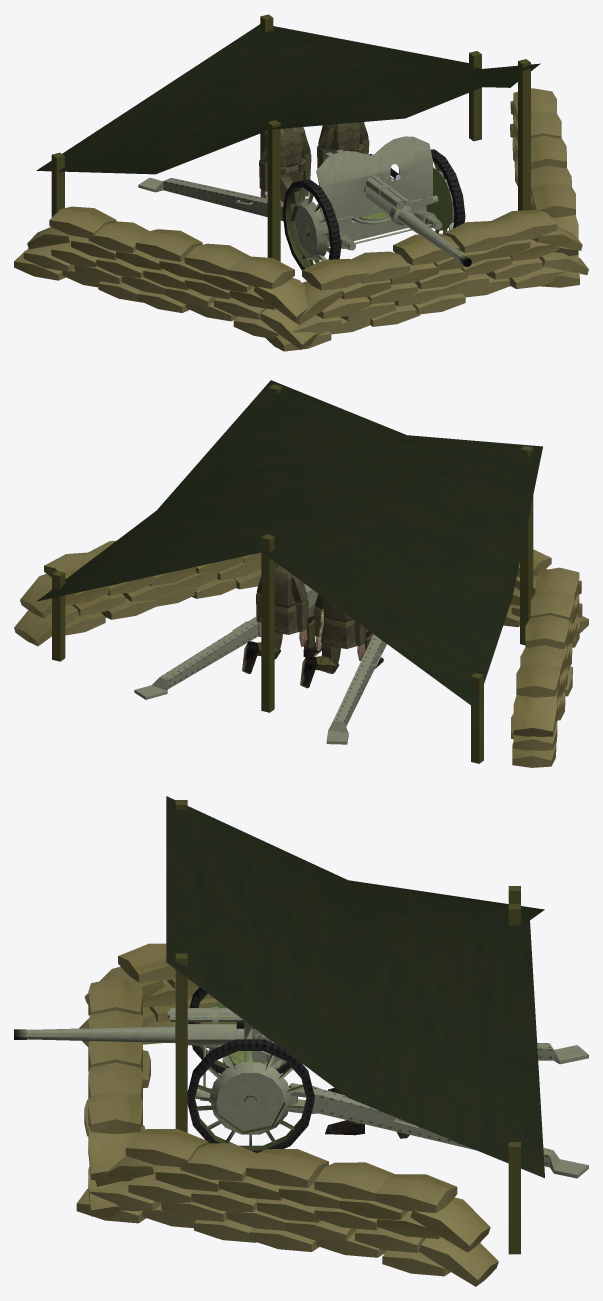
Rendered from FRA47mmAT_stationary.dae.
3 views of the same model, one above another, from view 1: azimuth 30°, elevation 25°; view 2: azimuth 150°, elevation 25°; view 3: azimuth 270°, elevation 25° (orthographic). The views are drawn at different scales.
Visible parts, largest first — view 1: base, turret, wheels, trail1, carriage, sleeve, torso2, barrel, torso1; view 2: base, trail2, trail1, torso1, torso2; view 3: base, wheels, trail2, barrel, sleeve, trail1, turret.
Part boxes in pixels (x1,y1,x2,y2): base: (14,14,588,351); turret: (316,136,432,222); wheels: (282,149,465,269); trail1: (138,177,295,221); carriage: (324,195,442,250); sleeve: (325,148,412,225); torso2: (280,127,305,189); barrel: (325,149,471,266); torso1: (330,122,363,153); base: (14,380,588,767); trail2: (134,584,311,699); trail1: (326,634,386,744); torso1: (260,562,299,634); torso2: (319,597,356,648); base: (76,796,544,1286); wheels: (187,987,314,1152); trail2: (288,1083,588,1178); barrel: (14,1026,175,1042); sleeve: (167,1006,283,1060); trail1: (537,1042,588,1064); turret: (230,1021,277,1066).
Size of the model in its own units: 51.33 by 37.95 by 18.15.
Materials: 1 (1 with a texture image).
